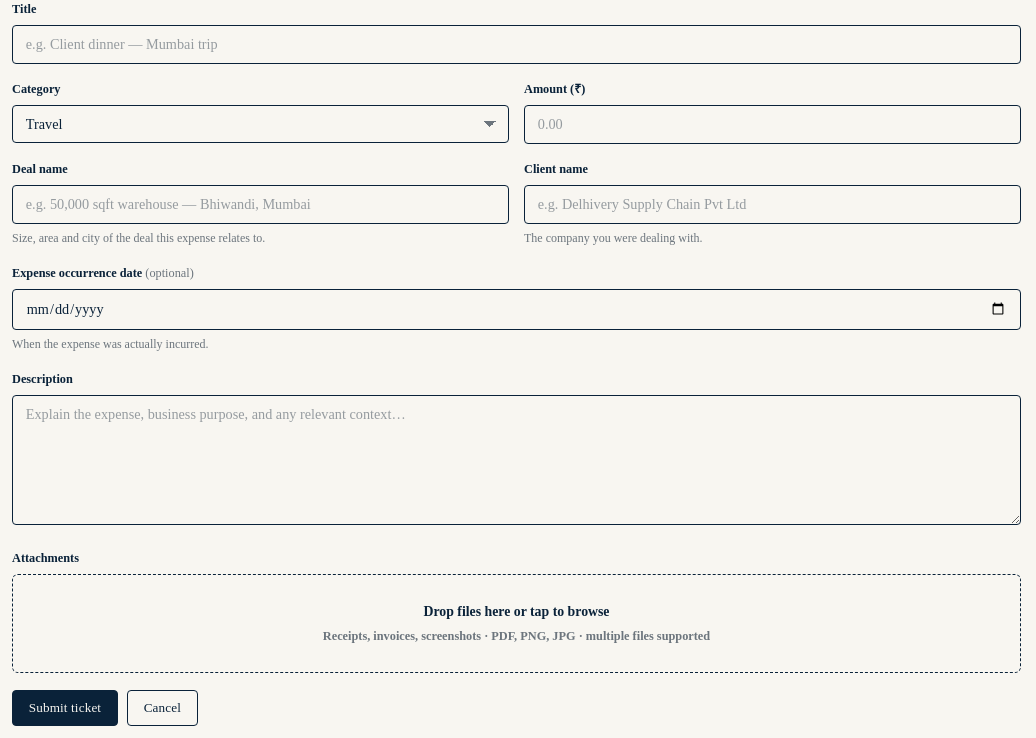
TicketForm attachments › shows API 400, preserves values and permits retry
Type "Client dinner" into the field labelled "Title" at [516, 44], box [12,25,1021,64]
Type "1250" into the number field labelled "Amount (₹)" at [772, 124], box [524,105,1021,144]
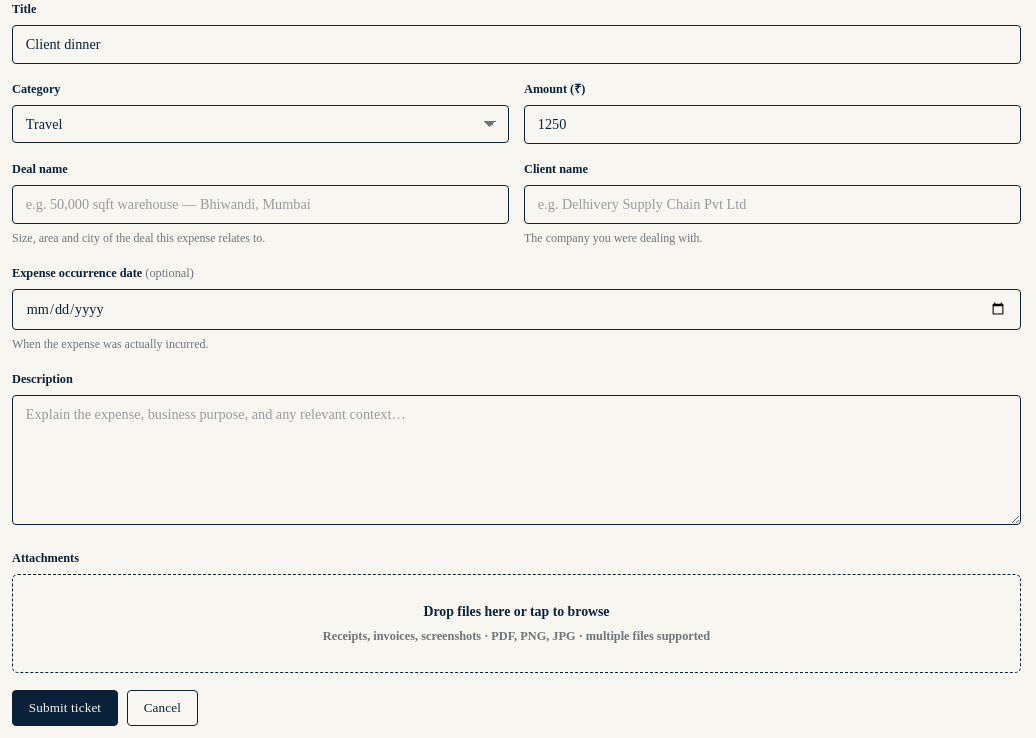
Type "50,000 sqft — Bhiwandi, Mumbai" into the field labelled "Deal name" at [260, 204], box [12,185,509,224]
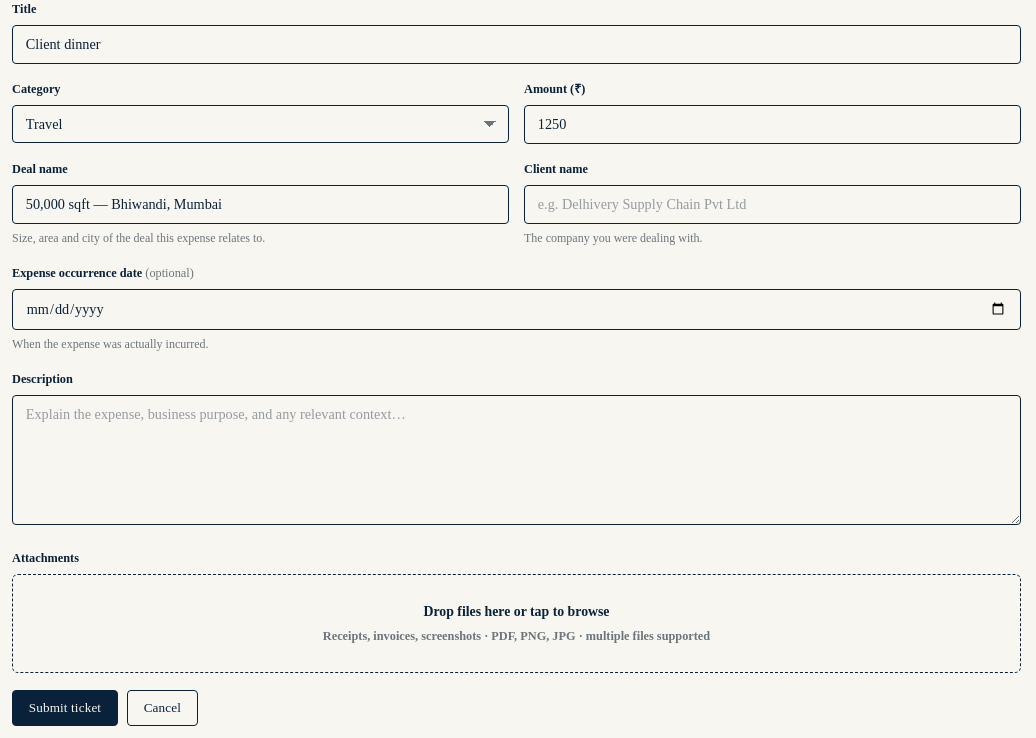
Type "Delhivery Supply Chain Pvt Ltd" into the field labelled "Client name" at [772, 204], box [524,185,1021,224]
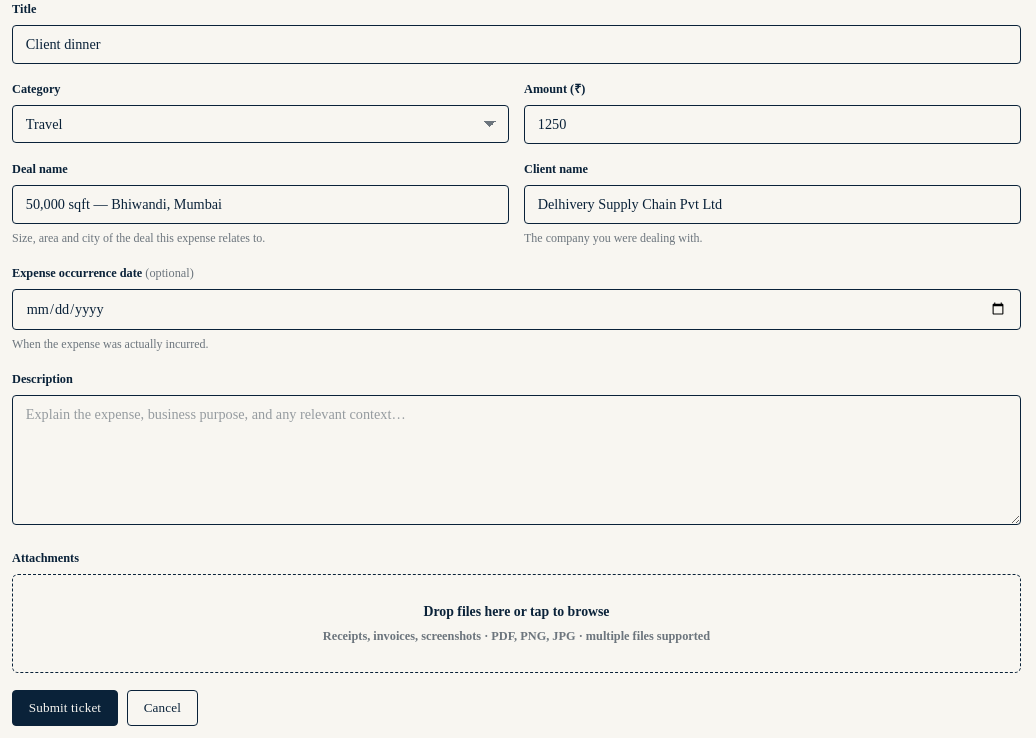
Replace the text in the text box labelled "Description" with "Dinner with client" at [516, 460], box [12,395,1021,525]
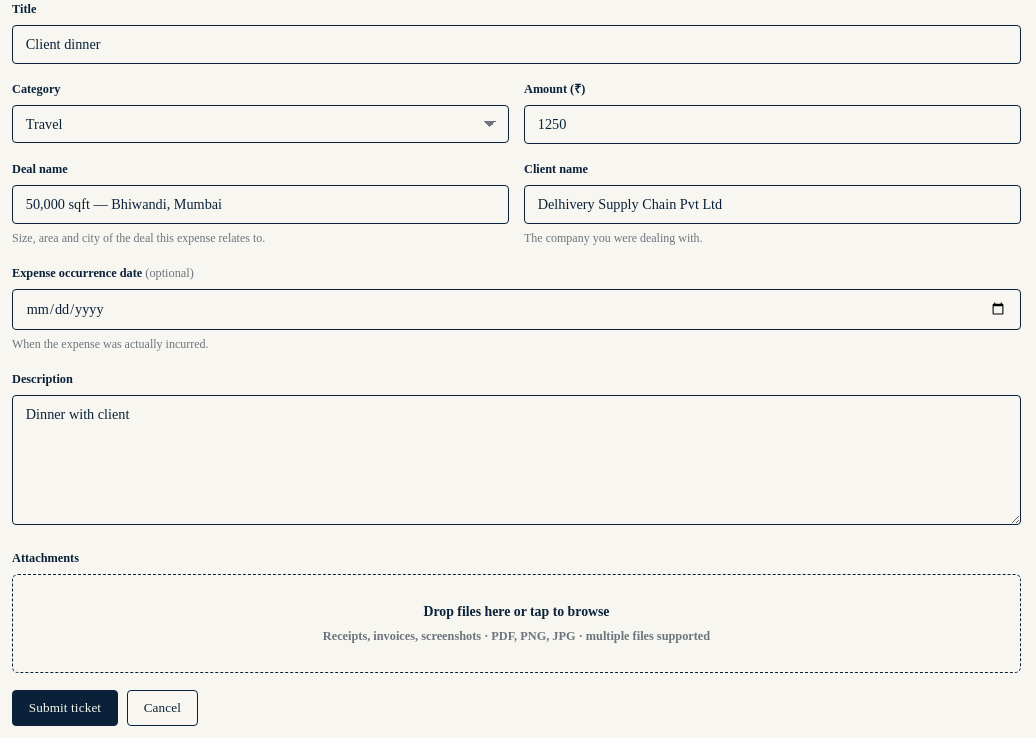
Submit the form
(page scrolled)
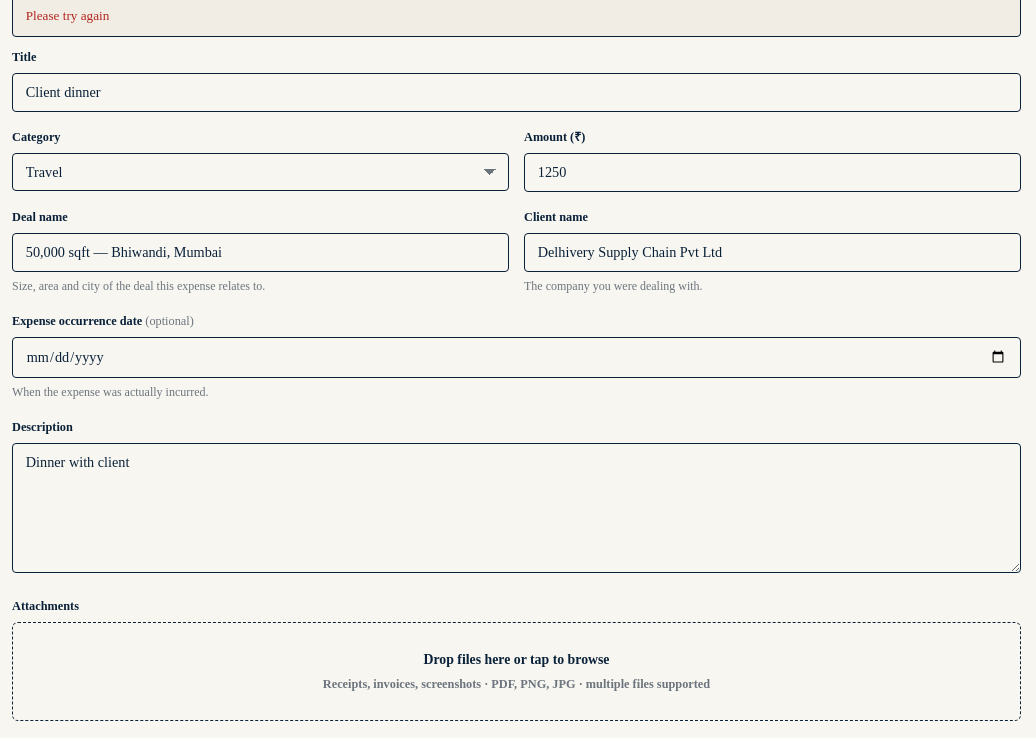
Submit the form
(page scrolled)
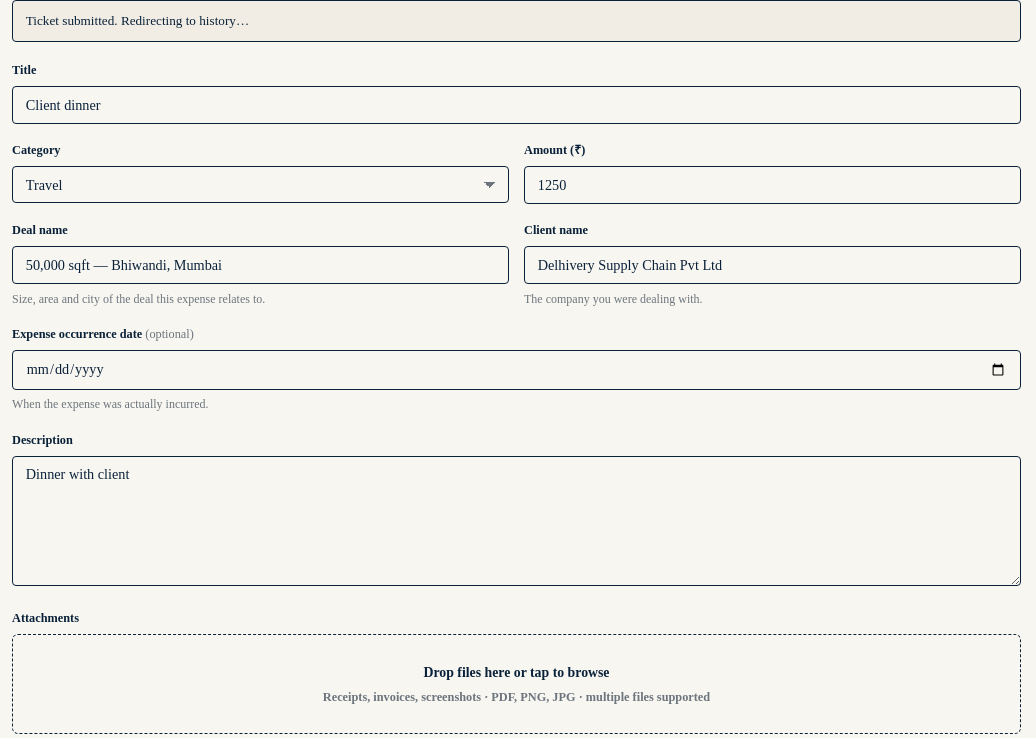
expect the text "Ticket submitted. Redirecting to history…" is shown: met, box [12,0,1021,42]
